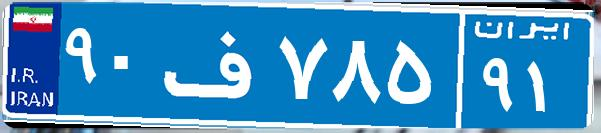0: (110, 28, 158, 105)
1: (525, 38, 570, 115)
5: (385, 28, 445, 110)
7: (273, 28, 330, 110)
8: (330, 28, 385, 110)
9: (57, 26, 110, 107), (475, 38, 525, 113)
ف: (158, 15, 273, 115)
